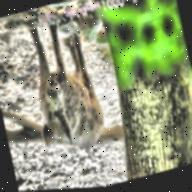boar: (10, 30, 120, 182)
